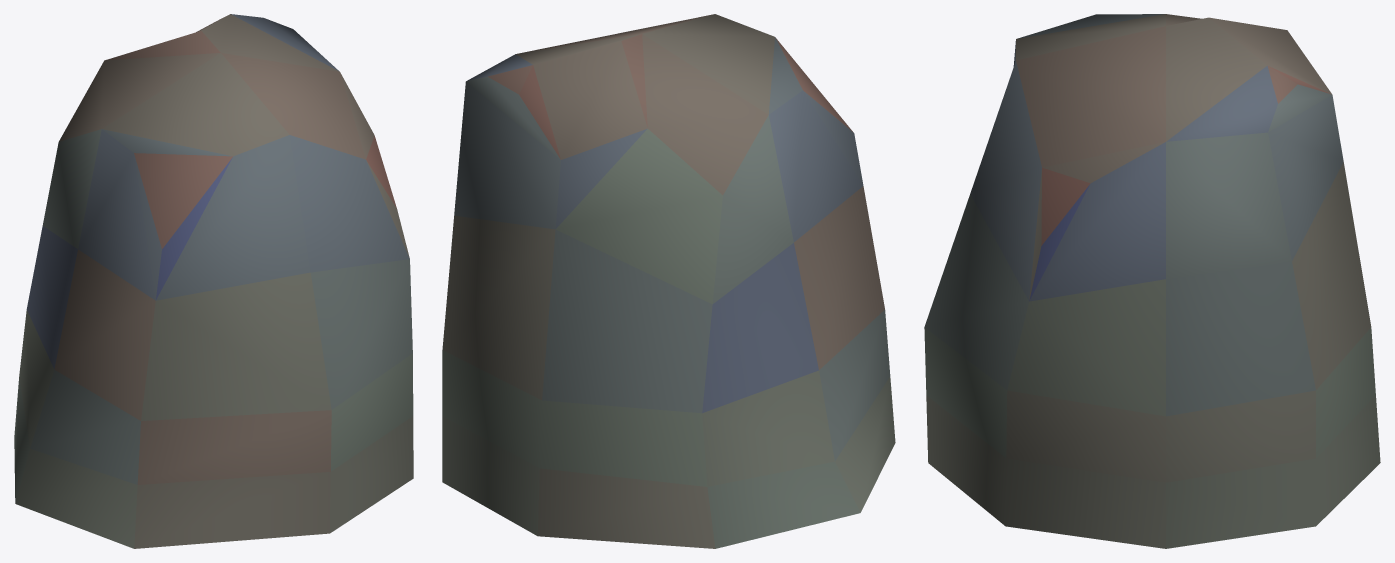
Rendered from Stone1.fbx.
3 renders of one model, left to right at view 1: azimuth 30°, elevation 25°; view 2: azimuth 150°, elevation 25°; view 3: azimuth 270°, elevation 25°, orthographic. The views are drawn at different scales.
Parts seen in each view (by area): view 1: Stone1; view 2: Stone1; view 3: Stone1.
Part boxes in pixels (box(x1,y1,x2,y2)): Stone1: box(14, 14, 413, 548); Stone1: box(442, 14, 895, 548); Stone1: box(924, 14, 1380, 548).
Bounding box in the file's own units: 157 × 164 × 152.
